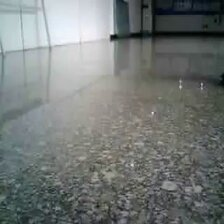tennis: (59, 171, 101, 219)
